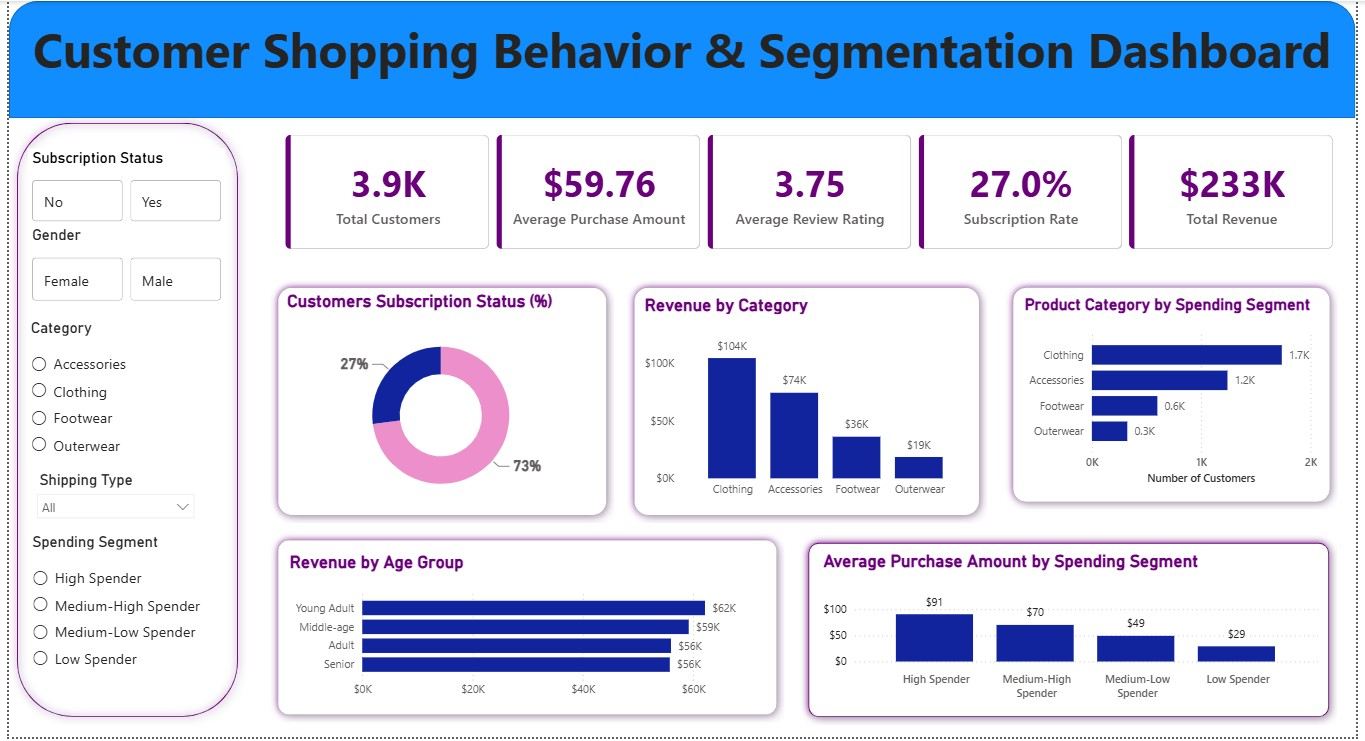

This screenshot's page, from the dashboard's own definition file:
{"tool":"powerbi","page":{"name":"Page 1","canvas":[1500,820],"ordinal":0},"visuals":[{"type":"shape","box":[0,0,1500,130.6],"z":0},{"type":"textbox","box":[0,12.6,1500,108.1],"z":1000},{"type":"shape","box":[290.7,310.4,383.4,271.1],"z":2000},{"type":"donutChart","title":"Customers Subscription Status (%)","fields":{"Category":["customer_behavior customer.subscription_status"],"Y":["Count(customer_behavior customer.customer_id)"]},"box":[305,323.1,352.5,244.4],"z":3000},{"type":"shape","box":[688.2,310.4,401.7,271.1],"z":4000},{"type":"clusteredColumnChart","title":"Revenue by Category","fields":{"Category":["customer_behavior customer.category"],"Y":["Sum(customer_behavior customer.purchase_amount)"]},"box":[703.7,327.2,372.2,234.6],"z":5000},{"type":"shape","box":[0,126.4,264,679.8],"z":6000},{"type":"advancedSlicerVisual","title":"Subscription Status","fields":{"Values":["customer_behavior customer.subscription_status"]},"box":[20.3,164,220,86.3],"z":7000},{"type":"advancedSlicerVisual","title":"Gender","fields":{"Values":["customer_behavior customer.gender"]},"box":[21.1,250,220.5,88.5],"z":8000},{"type":"listSlicer","title":"Category","fields":{"Values":["customer_behavior customer.category"]},"box":[19.7,353.9,221.5,164],"z":9000},{"type":"shape","box":[290.7,591.3,573,212.1],"z":11000},{"type":"clusteredBarChart","title":"Revenue by Age Group","fields":{"Category":["customer_behavior customer.age_group"],"Y":["Sum(customer_behavior customer.purchase_amount)"]},"box":[307.6,613.8,535.1,171.3],"z":12000},{"type":"shape","box":[1110,310.6,370.5,256.3],"z":13000},{"type":"clusteredBarChart","title":"Product Category by Spending Segment","fields":{"Category":["customer_behavior customer.category"],"Y":["CountNonNull(customer_behavior customer.customer_id)"]},"box":[1126.7,327.3,335.6,217.3],"z":14000},{"type":"cardVisual","fields":{"Data":["customer_behavior customer.Number of Customers","customer_behavior customer.Average Purchase Amount","customer_behavior customer.Average Review Rating","customer_behavior customer.Subscription Rate %","customer_behavior customer.Total Revenue"]},"box":[290.7,132,1203.7,161.5],"z":15000},{"type":"shape","box":[882,594.1,598.3,212.1],"z":16000},{"type":"clusteredColumnChart","title":"Average Purchase Amount by Spending Segment","fields":{"Category":["customer_behavior customer.Spending Segment"],"Y":["customer_behavior customer.Average Spend"]},"box":[903.1,612.4,561.8,174.2],"z":17000},{"type":"listSlicer","fields":{"Values":["customer_behavior customer.Spending Segment"]},"box":[21.1,591.3,221.9,161.5],"z":18000},{"type":"slicer","fields":{"Values":["customer_behavior customer.shipping_type"]},"box":[21.1,518.3,195.2,64.6],"z":18001}]}

Visuals, with their boxes in screenshot pixels (x1, y1, x2, y2), scaled from the page's 1500x820 canvas onto the 1365x741 screenshot:
shape: 0,0,1364,118
textbox: 0,11,1364,109
shape: 265,280,613,525
"Customers Subscription Status (%)" donutChart: 278,292,598,513
shape: 626,280,992,525
"Revenue by Category" clusteredColumnChart: 640,296,979,508
shape: 0,114,240,729
"Subscription Status" advancedSlicerVisual: 18,148,219,226
"Gender" advancedSlicerVisual: 19,226,220,306
"Category" listSlicer: 18,320,219,468
shape: 265,534,786,726
"Revenue by Age Group" clusteredBarChart: 280,555,767,709
shape: 1010,281,1347,512
"Product Category by Spending Segment" clusteredBarChart: 1025,296,1331,492
cardVisual - customer_behavior customer.Number of Customers x customer_behavior customer.Average Purchase Amount: 265,119,1360,265
shape: 803,537,1347,729
"Average Purchase Amount by Spending Segment" clusteredColumnChart: 822,553,1333,711
listSlicer - customer_behavior customer.Spending Segment: 19,534,221,680
slicer - customer_behavior customer.shipping_type: 19,468,197,527
